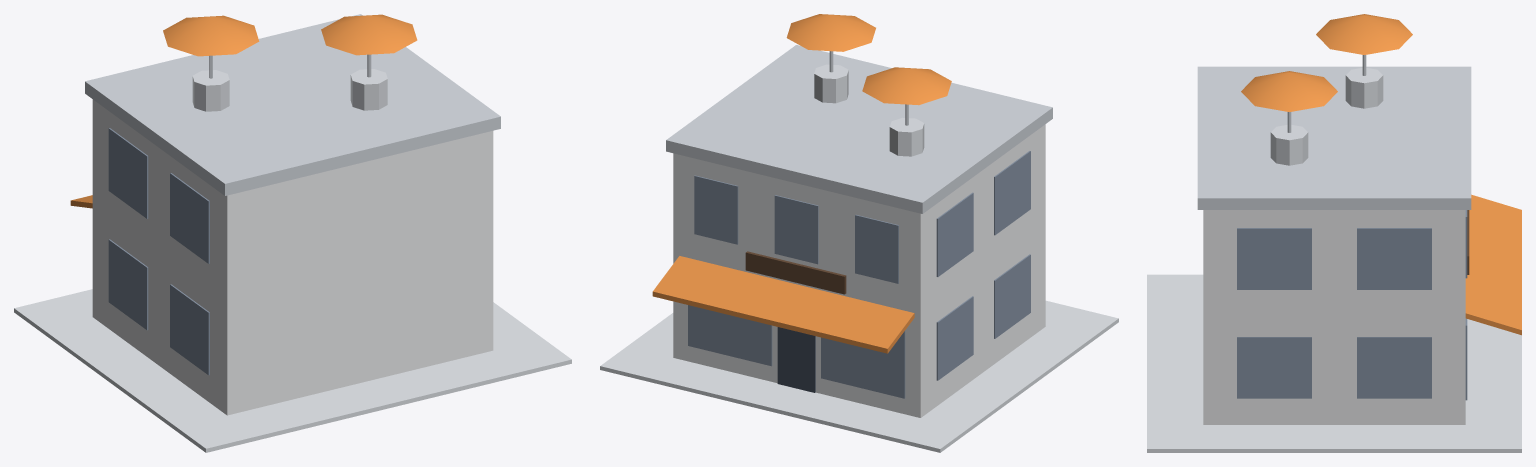
Rendered from cafe.glb.
3 renders of one model, left to right at view 1: azimuth 30°, elevation 25°; view 2: azimuth 150°, elevation 25°; view 3: azimuth 270°, elevation 25°, orthographic. The views are drawn at different scales.
Parts seen in each view (by area): view 1: Body; view 2: Body; view 3: Body.
Boxes of the visible parts, x1,y1,x2,y2 form: Body: [14, 14, 571, 452]; Body: [600, 14, 1118, 452]; Body: [1147, 14, 1521, 452].
Bounding box in the file's own units: 11 × 9.37 × 10.
